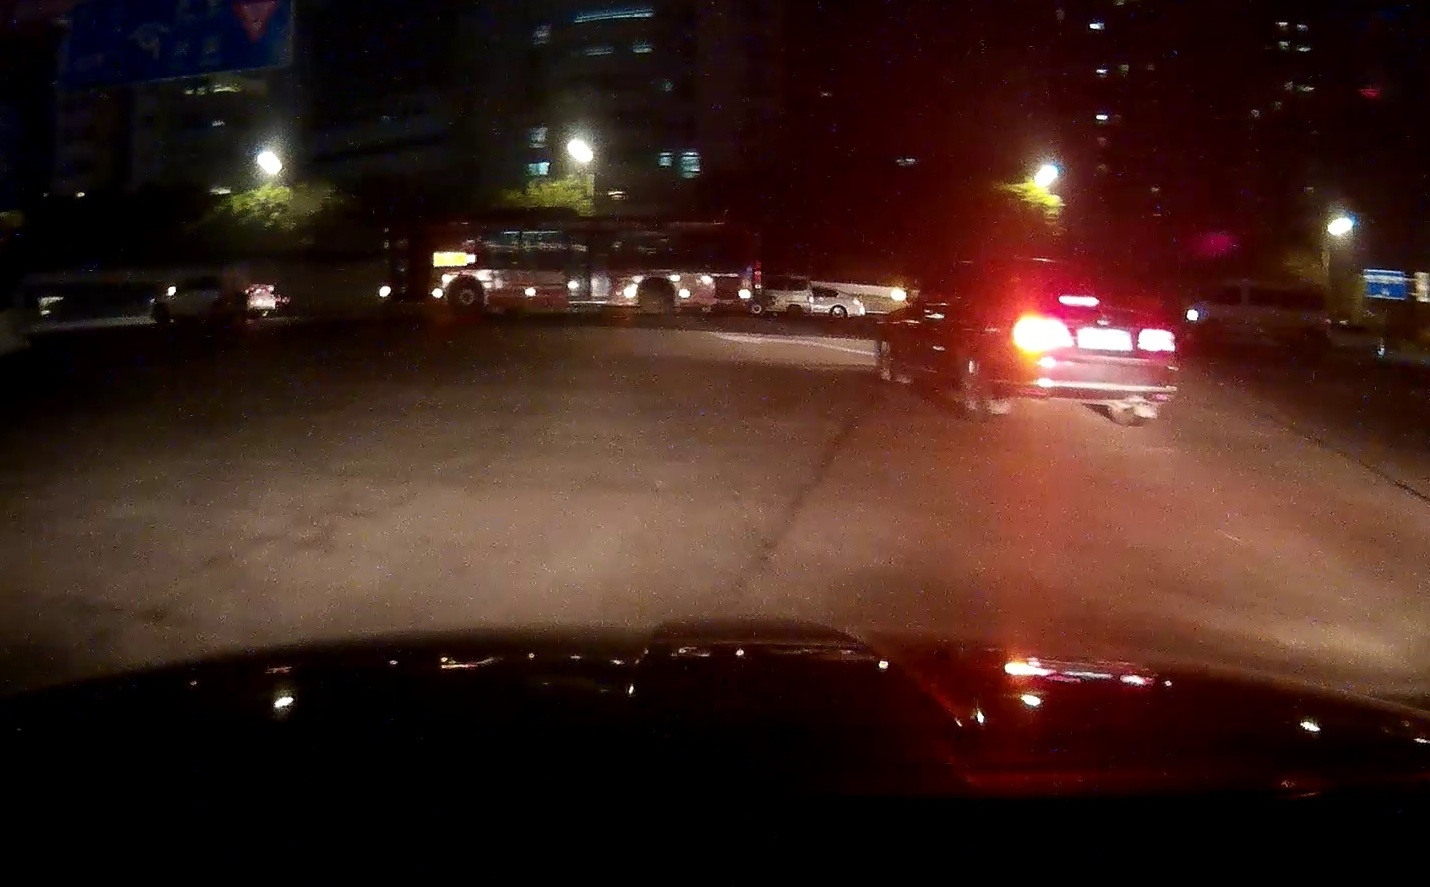L_light: (1012, 315, 1072, 352)
R_light: (1136, 328, 1175, 351)
T_light: (1058, 295, 1098, 308)
night-left: (1007, 260, 1177, 426)
